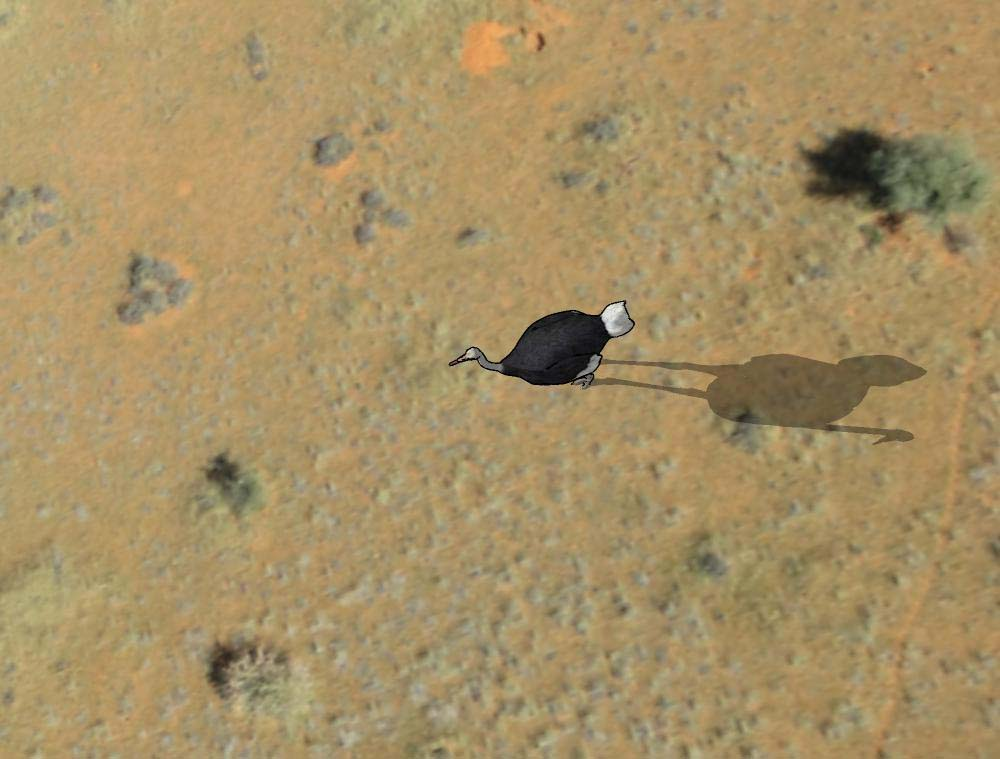springbok: (446, 295, 640, 396)
